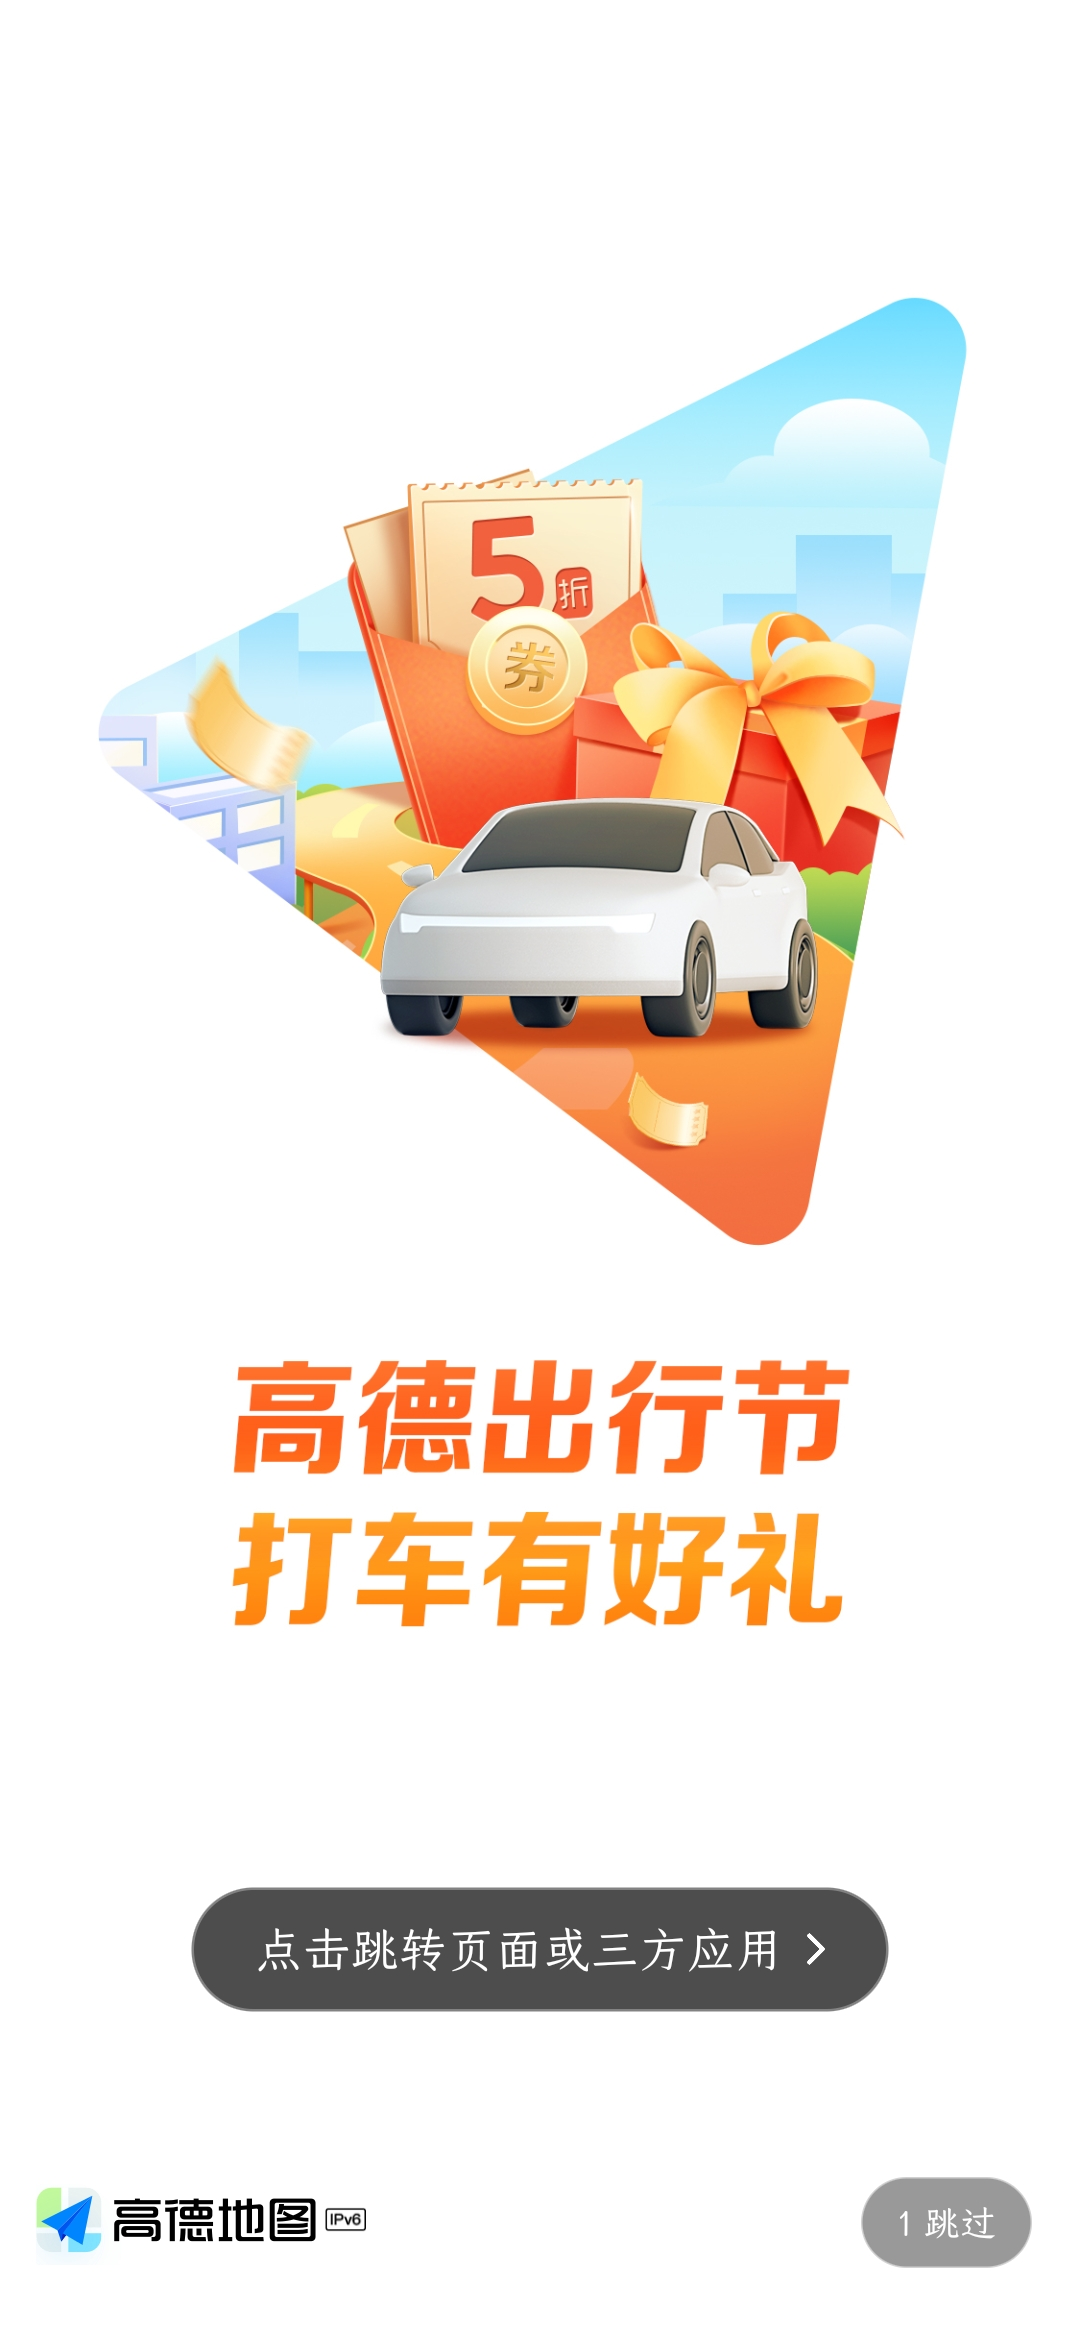skip: (874, 2176, 1017, 2262)
